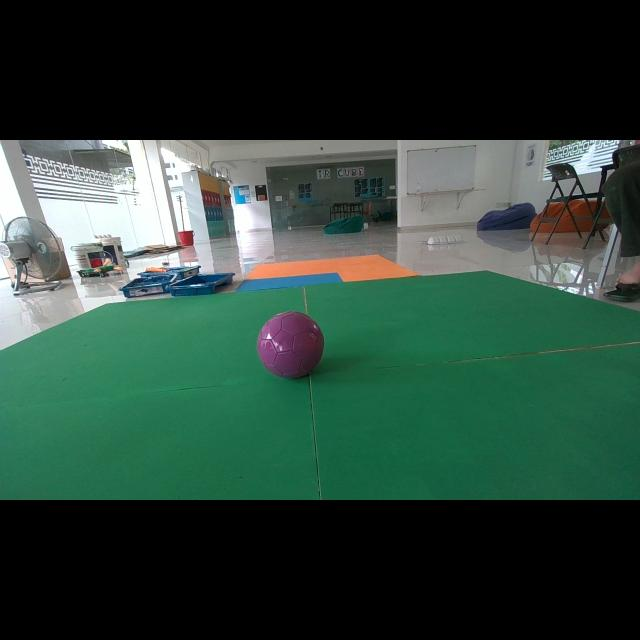P: (258, 311, 322, 378)
